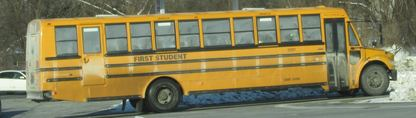bus: (24, 7, 406, 113)
car: (0, 63, 25, 94), (13, 71, 26, 79)
